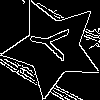Y: (28, 23, 79, 63)
